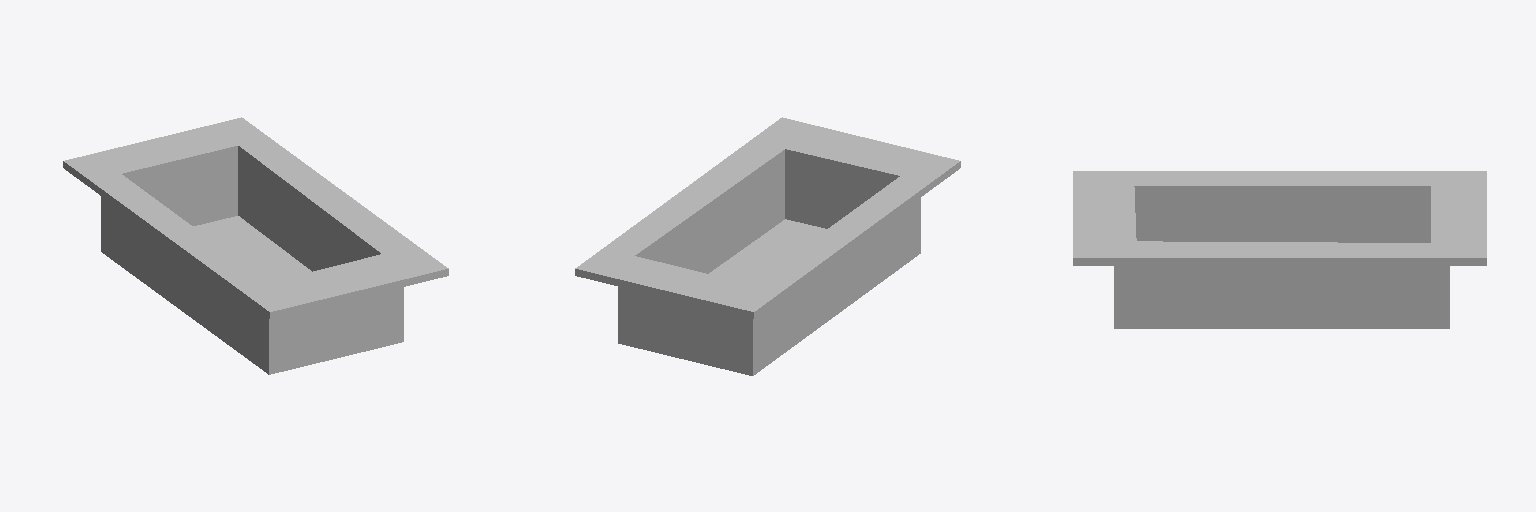
Rendered from sink.obj.
3 renders of one model, left to right at view 1: azimuth 30°, elevation 25°; view 2: azimuth 150°, elevation 25°; view 3: azimuth 270°, elevation 25°, orthographic.
Parts seen in each view (by area): view 1: sink; view 2: sink; view 3: sink.
Boxes of the visible parts, x1=… form: sink: x1=63, y1=117, x2=448, y2=374; sink: x1=575, y1=117, x2=960, y2=375; sink: x1=1073, y1=171, x2=1486, y2=328.
Bounding box in the file's own units: 8.68 × 3.82 × 17.38.